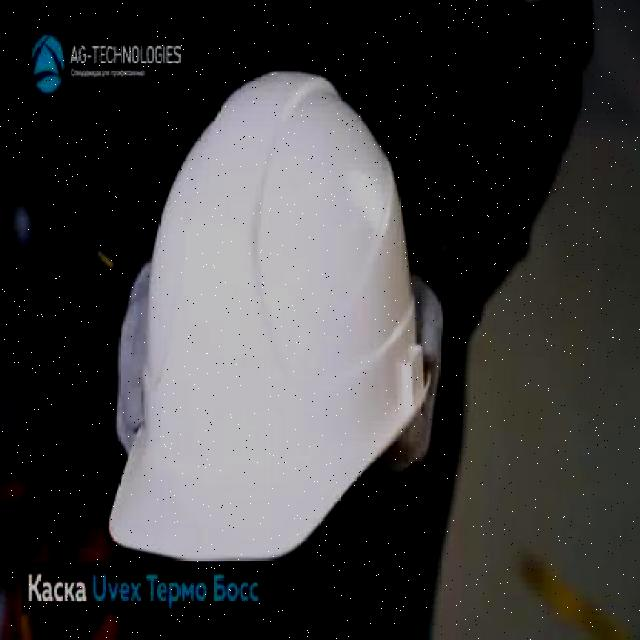Gloves: (358, 266, 448, 492), (111, 247, 162, 462)
Helmet: (105, 64, 430, 567)
